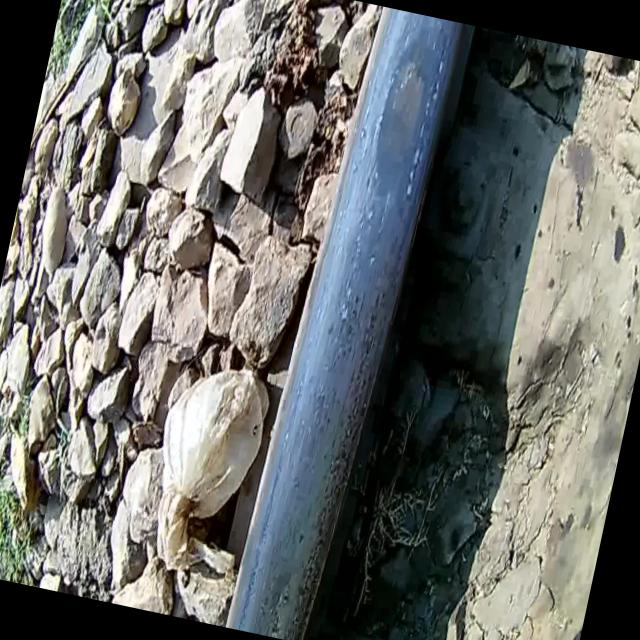Squats: (212, 0, 481, 640)
